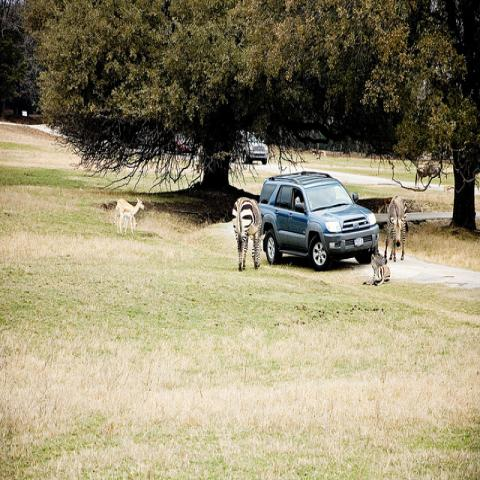car: (259, 170, 379, 272), (231, 131, 267, 165), (161, 134, 199, 154)
truck: (230, 130, 269, 165)
